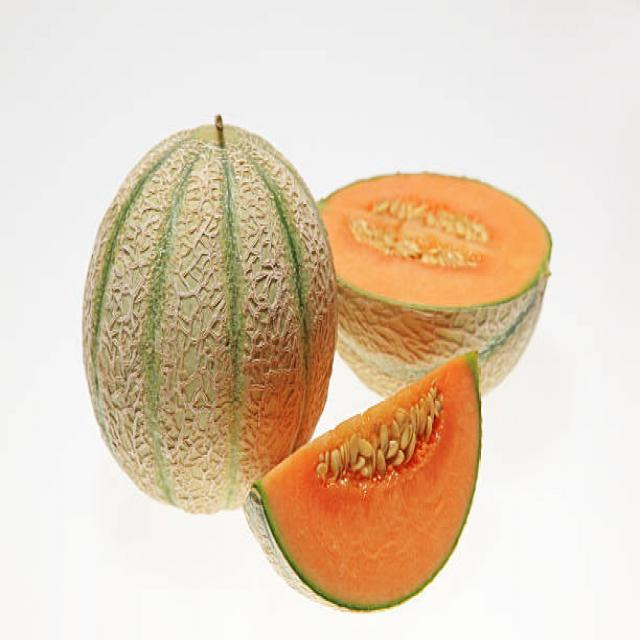Hami Melon: (79, 122, 338, 518), (246, 357, 478, 614), (318, 172, 552, 406)
